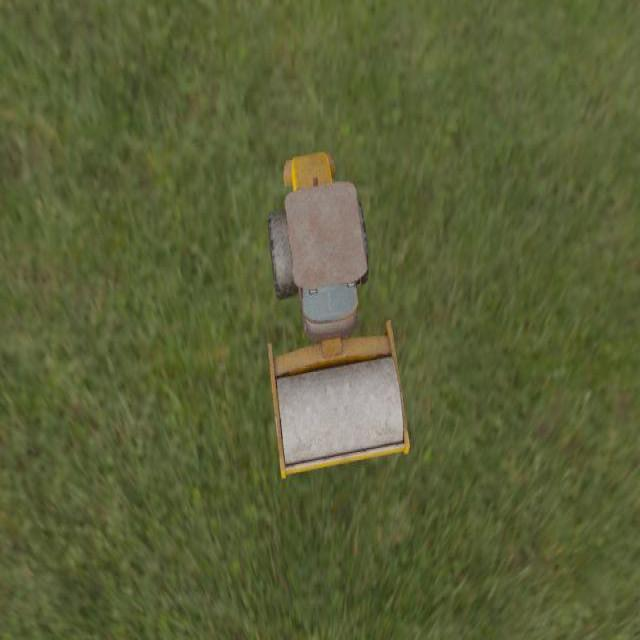Roller: (267, 150, 409, 478)
